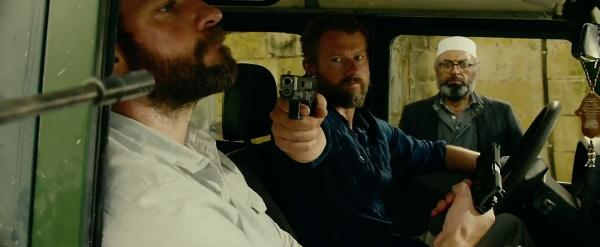Gun: (433, 143, 505, 233), (280, 71, 315, 119)
